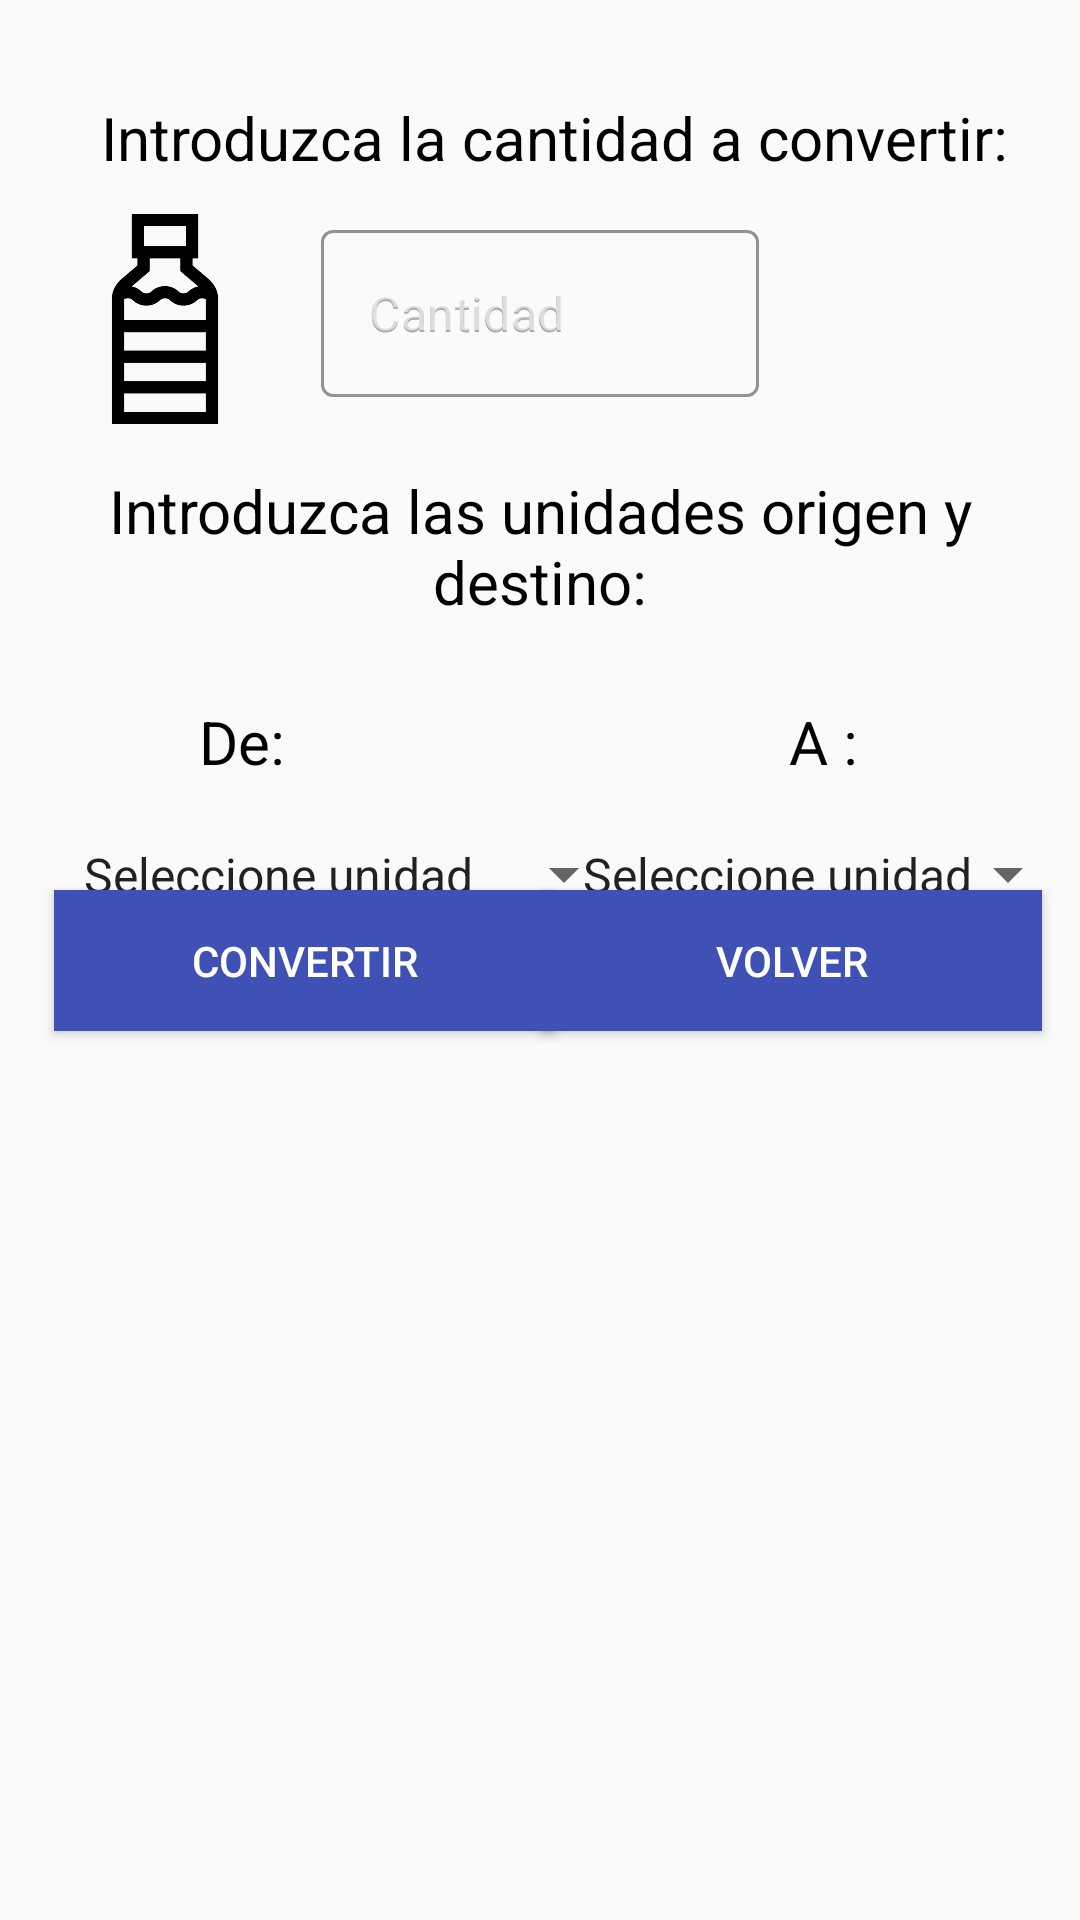

Where icons sit on this 1080*1920 app screen, as (x1, y1, x2, y2):
botella: (112, 214, 218, 424)
